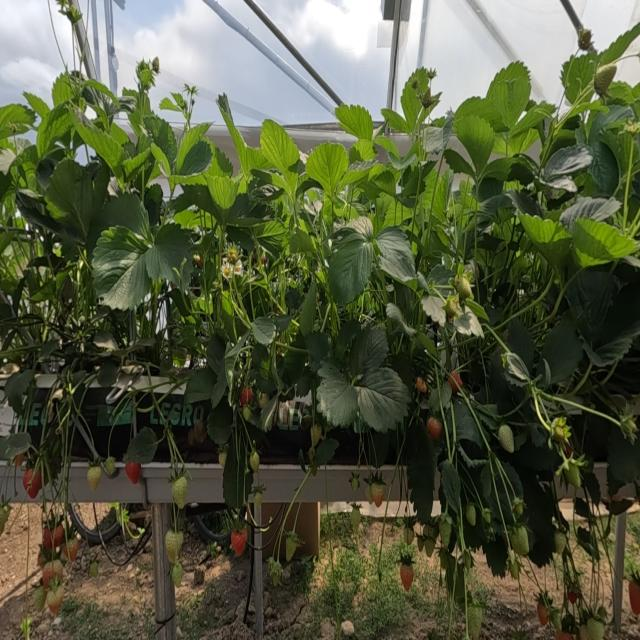Flowers: (222, 263, 232, 277), (235, 260, 243, 276)
Leaves: (91, 225, 150, 310), (216, 93, 270, 178), (85, 192, 149, 261), (517, 464, 554, 567), (45, 160, 92, 238), (570, 217, 636, 269), (566, 271, 618, 336), (358, 368, 410, 431), (481, 454, 523, 532), (328, 230, 372, 304), (405, 421, 435, 523), (486, 61, 531, 129), (519, 213, 571, 271), (260, 120, 299, 197), (316, 358, 358, 427), (595, 281, 639, 346), (575, 130, 619, 195), (73, 120, 124, 175), (145, 224, 191, 284), (541, 318, 582, 382), (454, 116, 495, 178), (306, 142, 347, 196), (401, 67, 436, 130), (375, 226, 415, 281), (541, 145, 591, 188), (347, 325, 387, 378), (607, 425, 639, 489), (36, 103, 71, 159), (452, 398, 485, 457), (562, 51, 598, 105), (560, 197, 619, 229), (224, 434, 249, 508), (143, 115, 177, 167), (600, 22, 639, 64), (177, 123, 210, 171), (505, 318, 534, 370), (335, 104, 371, 143), (4, 370, 35, 415), (454, 97, 501, 126), (584, 338, 631, 367), (337, 159, 380, 190), (424, 110, 454, 153), (253, 219, 287, 256), (207, 395, 231, 446), (283, 334, 307, 385), (124, 427, 157, 464), (179, 138, 212, 175), (0, 104, 34, 139), (477, 194, 511, 229), (184, 366, 216, 403), (204, 137, 233, 177), (441, 460, 461, 517), (207, 174, 237, 210), (305, 332, 331, 371), (431, 170, 450, 221), (386, 303, 415, 336), (508, 190, 542, 218), (299, 281, 316, 335), (373, 135, 403, 164), (382, 109, 414, 136), (365, 431, 389, 467), (472, 176, 503, 203), (224, 333, 247, 369), (427, 264, 452, 296), (207, 333, 226, 375), (211, 359, 227, 408), (505, 351, 530, 382), (453, 309, 482, 335), (23, 92, 49, 121), (313, 438, 337, 469), (52, 72, 72, 107), (289, 229, 315, 255), (421, 296, 445, 324), (403, 168, 427, 196), (252, 316, 275, 345), (350, 139, 376, 164), (372, 169, 397, 194), (97, 361, 119, 387), (583, 468, 599, 503), (347, 217, 373, 238), (388, 151, 416, 170), (94, 333, 118, 351), (295, 373, 311, 397), (159, 97, 179, 111), (133, 338, 156, 349)
Strawberries: (419, 69, 441, 109), (594, 63, 615, 95), (509, 526, 529, 556), (60, 3, 82, 29), (42, 561, 63, 588), (165, 531, 182, 563), (466, 604, 482, 638), (23, 468, 41, 498), (455, 273, 471, 301), (552, 417, 570, 441), (172, 477, 186, 507), (231, 529, 247, 555), (439, 514, 451, 547), (628, 580, 639, 616), (498, 425, 513, 451), (47, 589, 62, 615), (286, 530, 299, 559), (190, 418, 205, 443), (399, 565, 413, 591), (507, 549, 519, 579), (564, 463, 579, 487), (49, 524, 63, 549), (63, 538, 78, 561), (587, 618, 603, 639), (427, 417, 442, 439), (460, 549, 474, 571), (445, 298, 460, 318), (577, 29, 591, 50), (88, 466, 100, 490), (270, 560, 281, 586), (125, 463, 139, 483), (34, 586, 45, 611), (1, 505, 10, 534), (448, 372, 461, 392), (311, 424, 322, 447), (441, 381, 451, 406), (172, 562, 182, 586), (351, 506, 360, 531), (537, 604, 547, 626), (280, 402, 289, 425), (105, 456, 115, 476), (373, 487, 383, 507), (240, 387, 251, 405), (227, 245, 237, 264), (250, 450, 259, 471), (466, 504, 475, 525), (193, 569, 203, 587), (513, 499, 523, 516), (404, 527, 414, 544), (425, 538, 434, 555), (350, 472, 358, 491), (254, 491, 262, 508), (89, 561, 98, 576), (416, 378, 426, 391), (581, 625, 590, 639), (242, 405, 251, 419), (219, 448, 226, 465), (259, 393, 267, 407), (152, 57, 159, 73), (410, 78, 419, 90), (568, 591, 575, 604)
